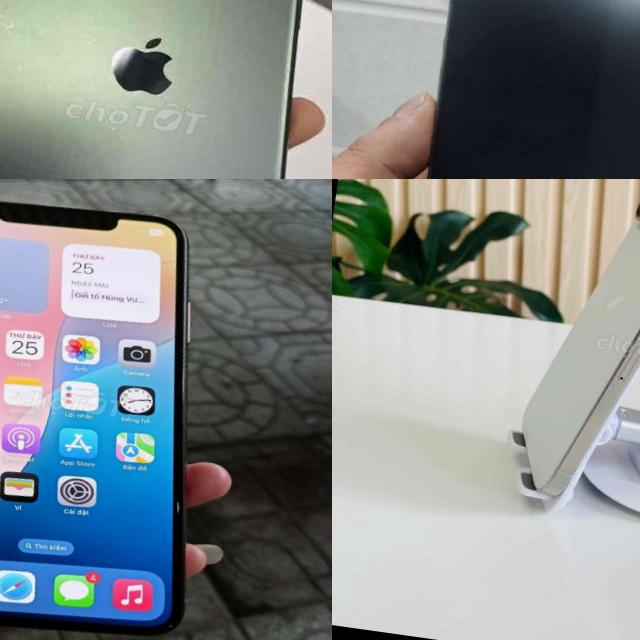gen_11: (0, 0, 300, 179)
gen_14: (389, 0, 640, 179)
gen_15: (484, 179, 640, 518)
gen_x_xs: (0, 179, 265, 640)
